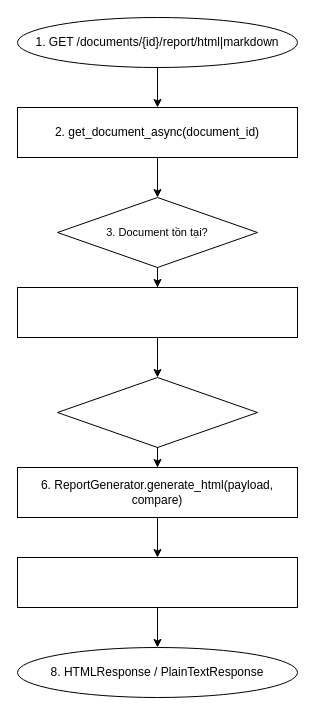
Image size: 315x715. Some labels were removed from this diagram. Here are the shapes that lost their labels. From the top down, the box of each, then its label:
(16, 286, 298, 338): 4. Thử compare_summaries_async (optional, bỏ qua lỗi)
(56, 376, 258, 448): 5. Format?
(16, 556, 298, 608): 7. ReportGenerator.generate_markdown(payload, compare)
